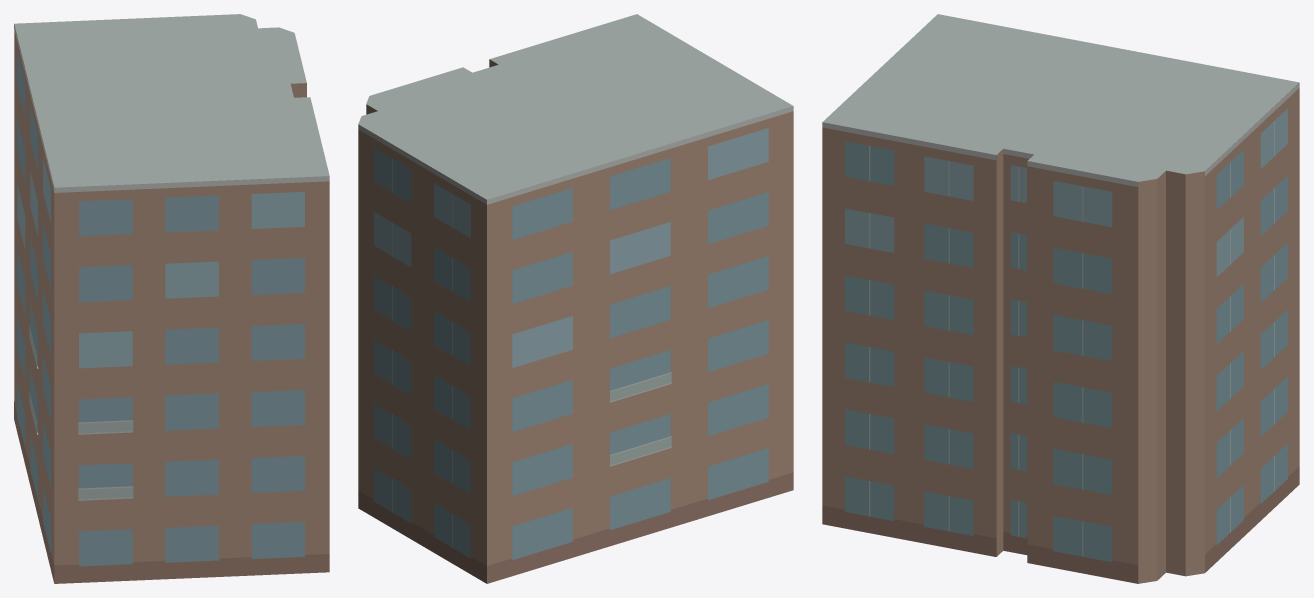
Rendered from survey-upis-32669151.glb.
3 views of the same model, side by side, from view 1: azimuth 30°, elevation 25°; view 2: azimuth 150°, elevation 25°; view 3: azimuth 270°, elevation 25° (orthographic). The views are drawn at different scales.
Parts seen in each view (by area): view 1: survey-upis-32669151.tmp; view 2: survey-upis-32669151.tmp; view 3: survey-upis-32669151.tmp.
Part boxes in pixels (box(x1,y1,x2,y2)): survey-upis-32669151.tmp: box(14, 14, 329, 583); survey-upis-32669151.tmp: box(358, 14, 793, 583); survey-upis-32669151.tmp: box(822, 14, 1299, 583).
Bounding box in the file's own units: 16.67 × 18.6 × 20.02.
